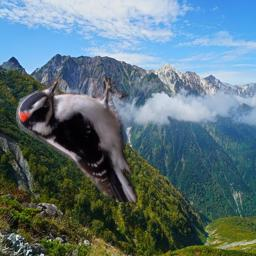Woodpecker: (16, 78, 138, 202)
